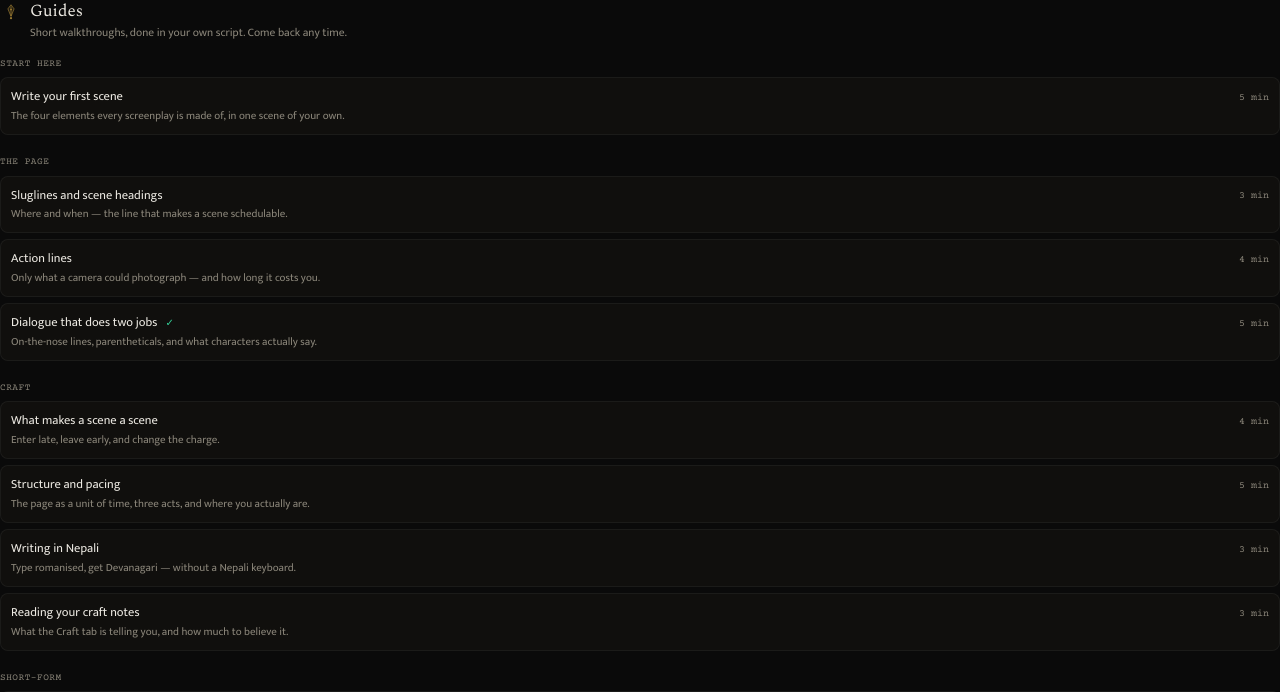
Test: it advances by itself once the step is satisfied
Click the text "Write your first scene": (67,98) 11,88 -> 123,107
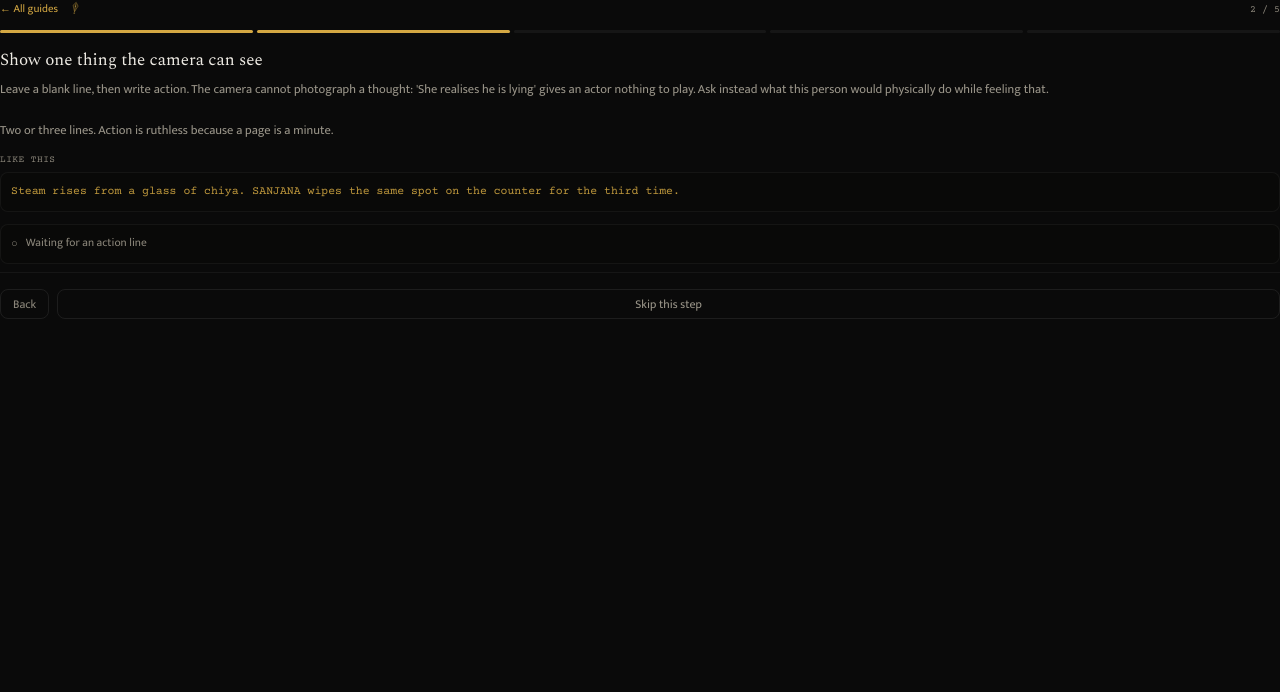
Expected: the heading "Show one thing the camera can see" is shown, 0,49 -> 263,73
